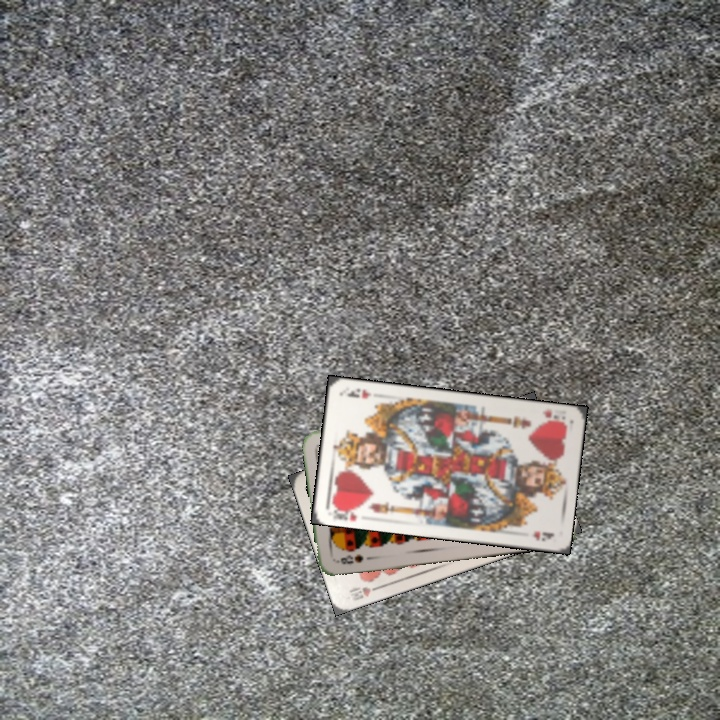H10: (345, 581, 384, 603)
HK: (328, 501, 363, 524), (537, 405, 569, 427)
S8: (332, 550, 366, 567)
